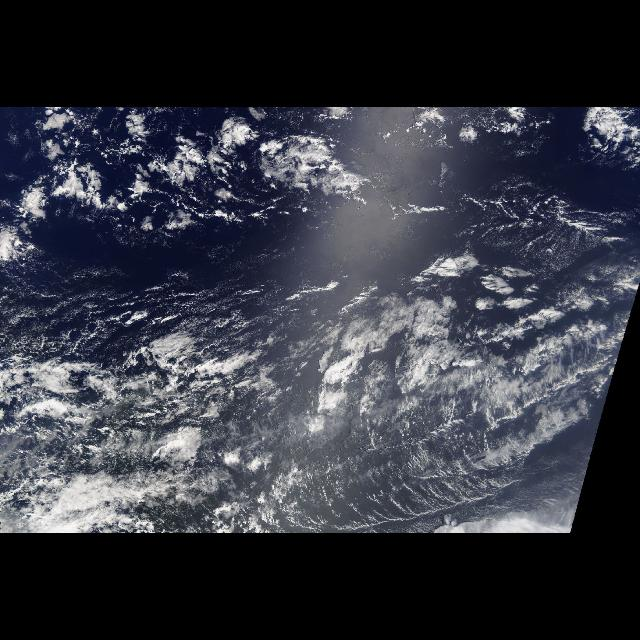Flower: (1, 107, 406, 269)
Gravel: (16, 294, 320, 476)
Sugar: (5, 264, 361, 354), (276, 431, 568, 531)
